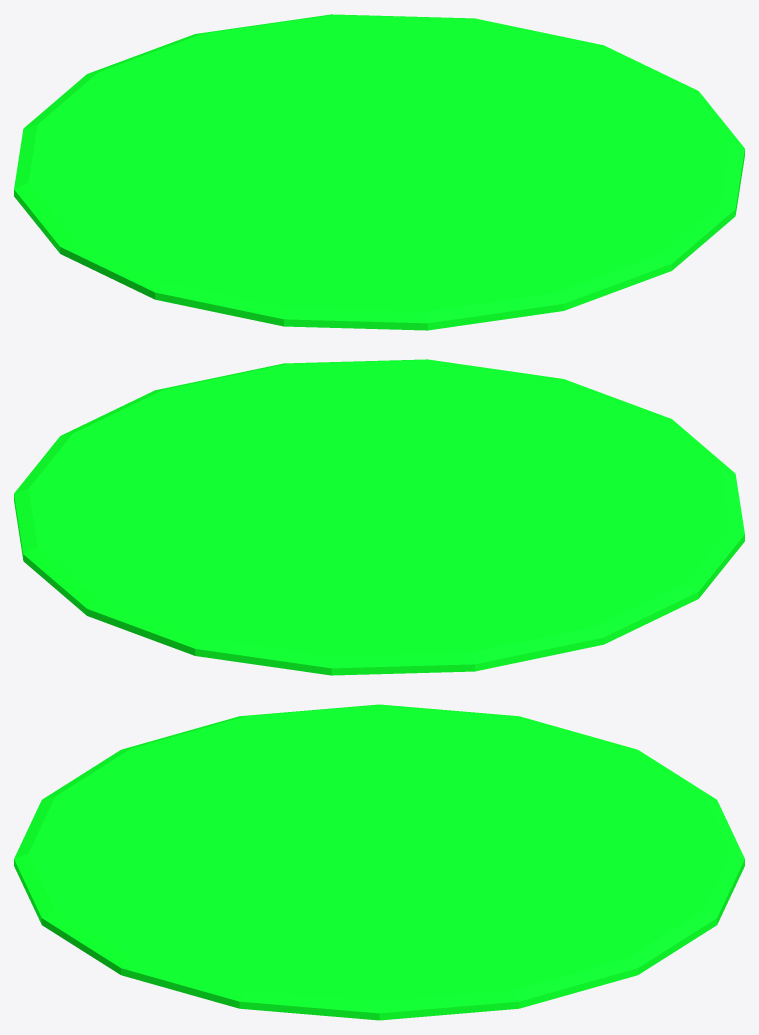
3 renders of one model, top to bottom at view 1: azimuth 30°, elevation 25°; view 2: azimuth 150°, elevation 25°; view 3: azimuth 270°, elevation 25°, orthographic.
Parts seen in each view (by area): view 1: BasePlatform.003; view 2: BasePlatform.003; view 3: BasePlatform.003.
Part boxes in pixels (box(x1,y1,x2,y2)): BasePlatform.003: box(14, 14, 744, 330); BasePlatform.003: box(14, 359, 744, 675); BasePlatform.003: box(14, 704, 744, 1020).
Size of what is drawn, in the model's own units: 4.06 by 0.0778 by 4.06.
Materials: 1 (1 with a texture image).
